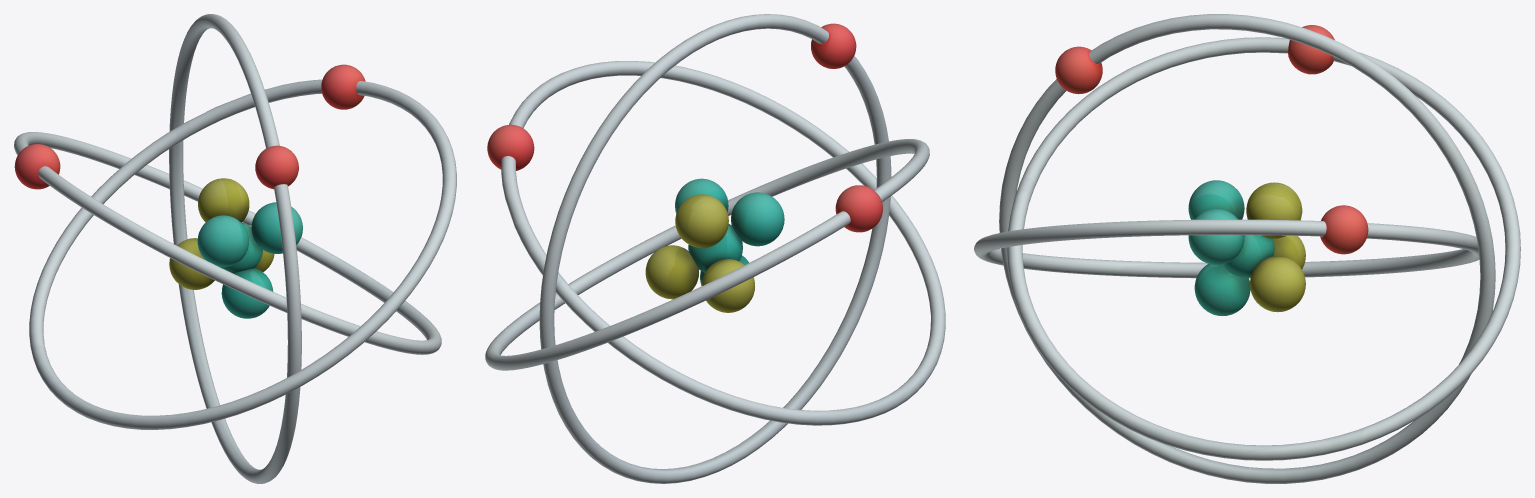
The model's file is atom.glb.
The picture shows the model from 3 angles, left to right: view 1: azimuth 30°, elevation 25°; view 2: azimuth 150°, elevation 25°; view 3: azimuth 270°, elevation 25°; orthographic projection. The views are drawn at different scales.
Parts seen in each view (by area): view 1: node_id30; view 2: node_id30; view 3: node_id30.
Part boxes in pixels (x1,y1,x2,y2): node_id30: (14,14,456,483); node_id30: (485,14,945,483); node_id30: (974,14,1520,483).
Bounding box in the file's own units: 0.4575 × 0.512 × 0.5451.
1 material, 1 textured.
